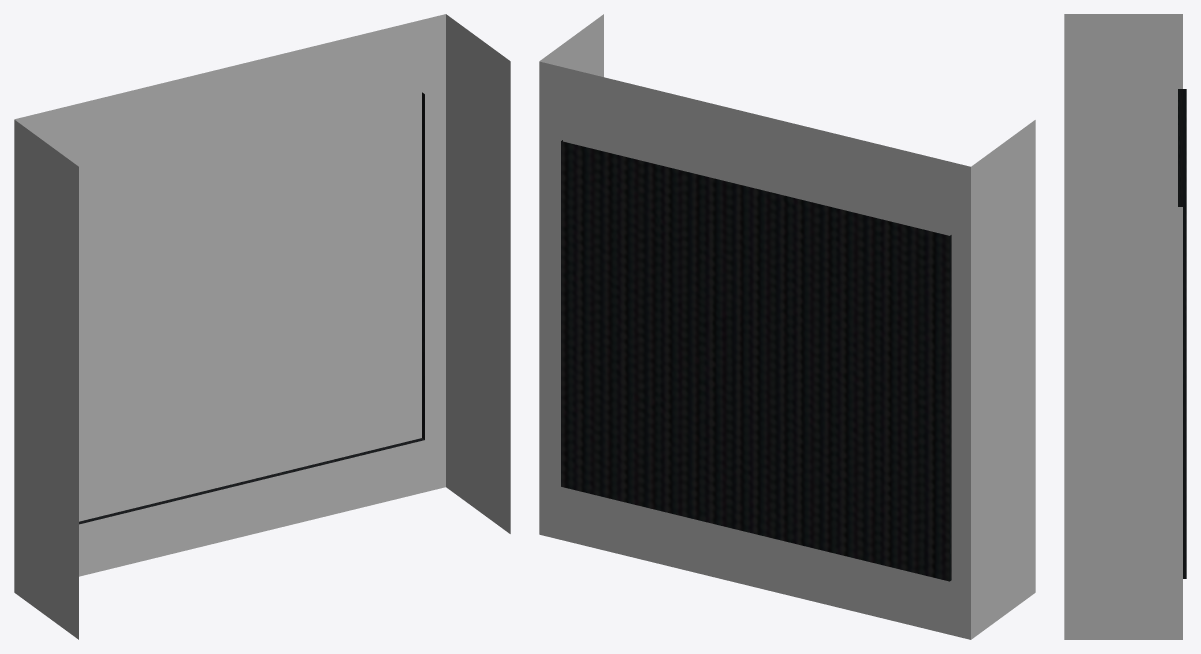
The model's file is TV_Building.fbx.
3 renders of one model, left to right at view 1: azimuth 30°, elevation 25°; view 2: azimuth 150°, elevation 25°; view 3: azimuth 270°, elevation 25°, orthographic. The views are drawn at different scales.
Parts seen in each view (by area): view 1: tvscreen:tv_Building_Base, tvscreen:TV_Building_Trim, tvscreen:tvscreen; view 2: tvscreen:tvscreen, tvscreen:tv_Building_Base, tvscreen:TV_Building_Trim; view 3: tvscreen:tv_Building_Base, tvscreen:TV_Building_Trim, tvscreen:tvscreen.
Part boxes in pixels (x1,y1,x2,y2): tvscreen:tv_Building_Base: (14, 14, 510, 585); tvscreen:TV_Building_Trim: (14, 433, 510, 639); tvscreen:tvscreen: (79, 92, 424, 524); tvscreen:tvscreen: (561, 140, 951, 581); tvscreen:tv_Building_Base: (539, 14, 1035, 585); tvscreen:TV_Building_Trim: (539, 480, 1035, 639); tvscreen:tv_Building_Base: (1064, 14, 1182, 590); tvscreen:TV_Building_Trim: (1064, 590, 1182, 639); tvscreen:tvscreen: (1178, 89, 1186, 578).
Size of the model in its own units: 20 by 20.94 by 5.35.
